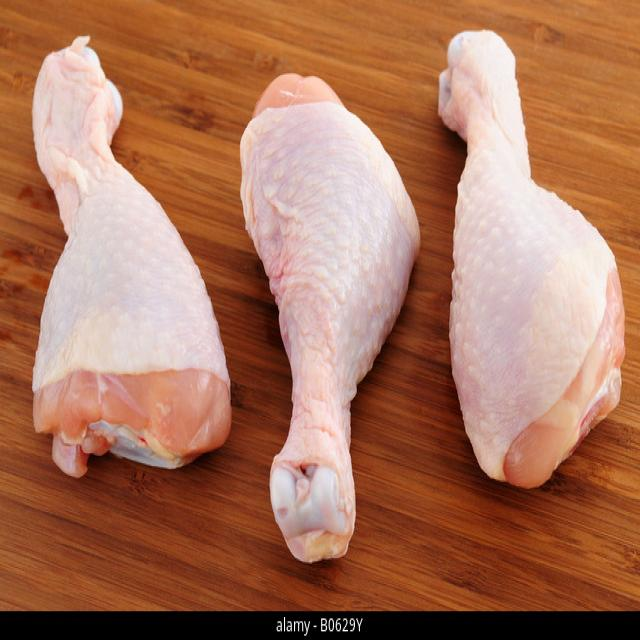Chicken: (236, 68, 425, 577), (21, 29, 235, 478), (437, 19, 628, 493)
